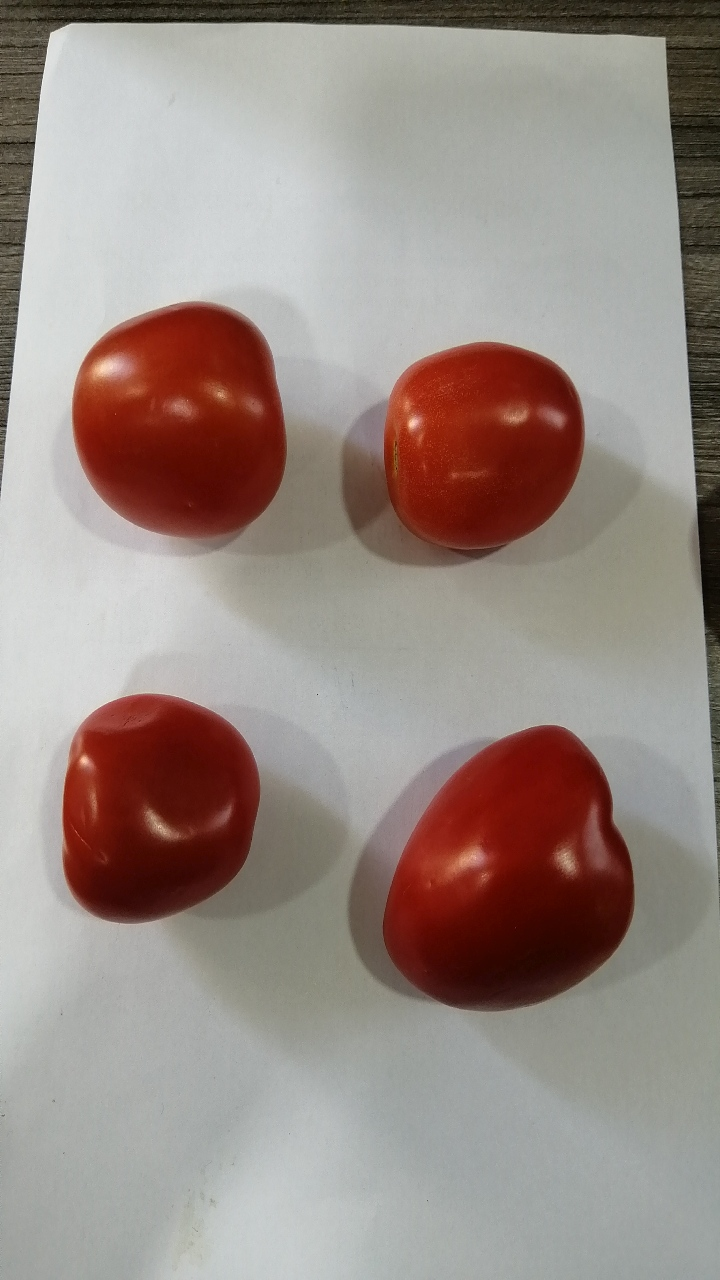tomateRojo: (358, 719, 657, 1045), (41, 665, 286, 965), (51, 285, 309, 554), (372, 319, 600, 586)
